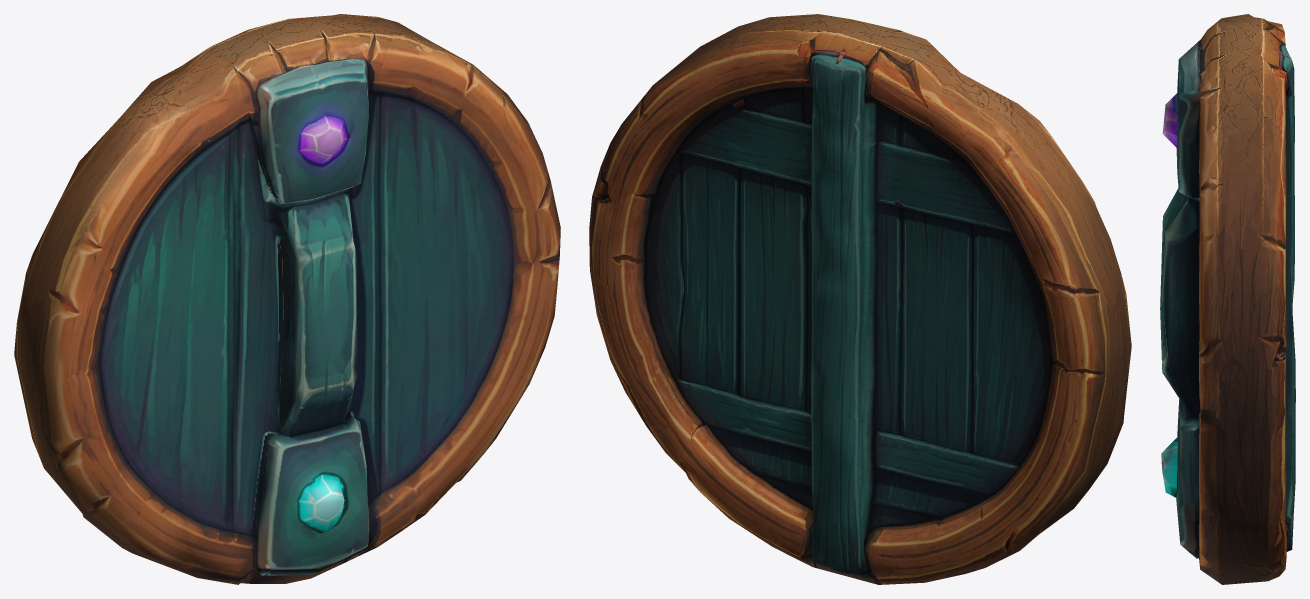
The model's file is Wooden_Gem_Shield_807.fbx.
3 renders of one model, left to right at view 1: azimuth 30°, elevation 25°; view 2: azimuth 150°, elevation 25°; view 3: azimuth 270°, elevation 25°, orthographic. The views are drawn at different scales.
Parts seen in each view (by area): view 1: Wooden_Gem_Shield_807; view 2: Wooden_Gem_Shield_807; view 3: Wooden_Gem_Shield_807.
Part boxes in pixels (x1,y1,x2,y2): Wooden_Gem_Shield_807: (14,14,560,584); Wooden_Gem_Shield_807: (589,14,1131,584); Wooden_Gem_Shield_807: (1160,14,1295,584).
Bounding box in the file's own units: 0.6 × 0.5997 × 0.1416.
1 material, 1 textured.
